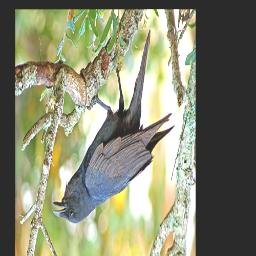Crow: (52, 27, 176, 224)
